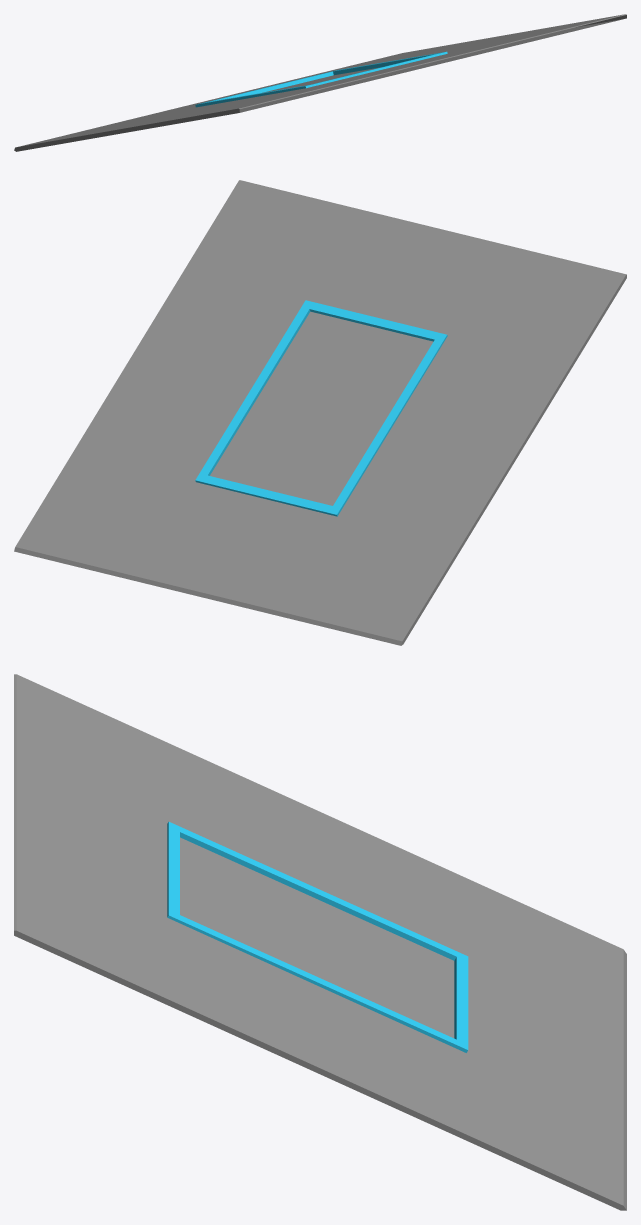
Rendered from roof_half_windows.FBX.
3 renders of one model, top to bottom at view 1: azimuth 30°, elevation 25°; view 2: azimuth 150°, elevation 25°; view 3: azimuth 270°, elevation 25°, orthographic. The views are drawn at different scales.
Parts seen in each view (by area): view 1: WH_Roof_Single_Windows; view 2: WH_Roof_Single_Windows; view 3: WH_Roof_Single_Windows.
Boxes of the visible parts, <box> form: WH_Roof_Single_Windows: <box>14,14,626,151</box>; WH_Roof_Single_Windows: <box>14,180,626,645</box>; WH_Roof_Single_Windows: <box>14,674,626,1210</box>.
Bounding box in the file's own units: 500 × 254 × 505.
